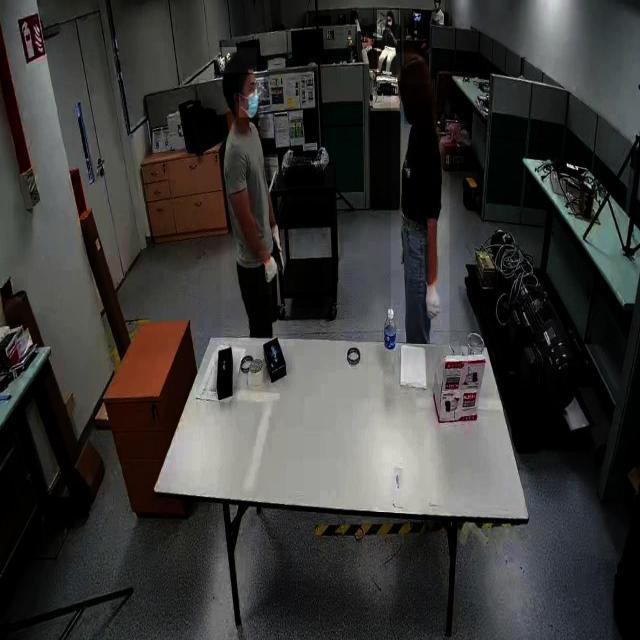gloves: (268, 221, 294, 281), (418, 274, 443, 326), (258, 250, 278, 296)
